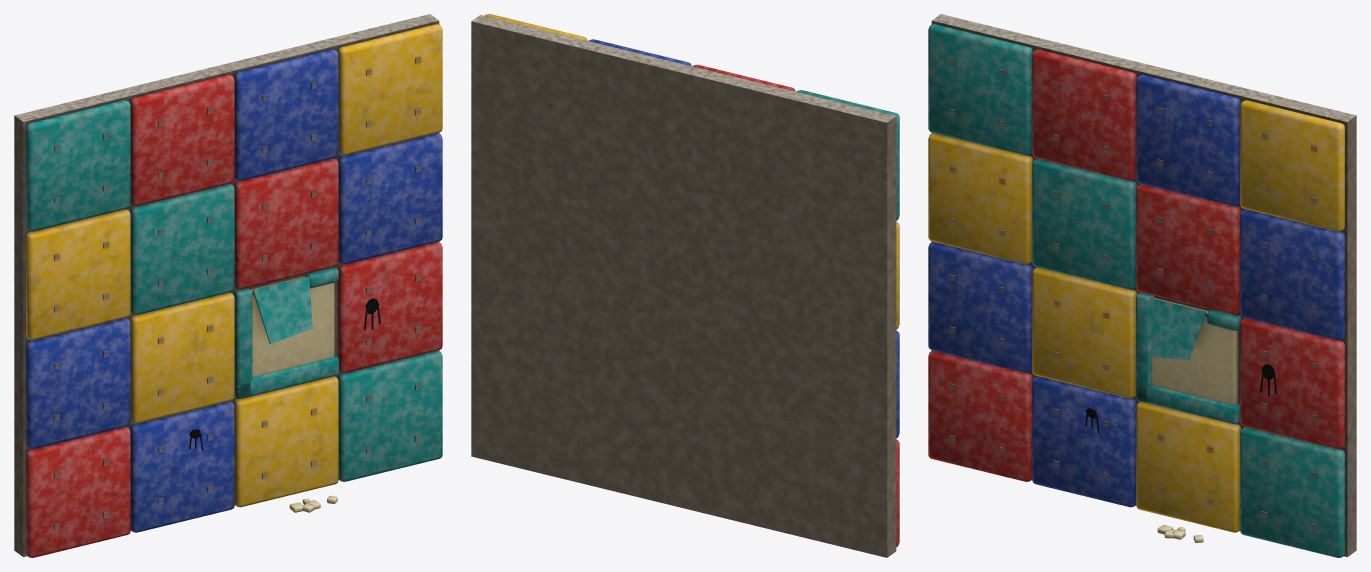
The model's file is padded_wall.fbx.
3 views of the same model, side by side, from view 1: azimuth 30°, elevation 25°; view 2: azimuth 150°, elevation 25°; view 3: azimuth 330°, elevation 25° (orthographic).
Visible parts, largest first — view 1: Body; view 2: Body; view 3: Body.
Part boxes in pixels (x1,y1,x2,y2): Body: (14,14,442,557); Body: (471,14,899,557); Body: (928,14,1356,557).
Bounding box in the file's own units: 16 × 16 × 2.37.
1 material, 1 textured.
